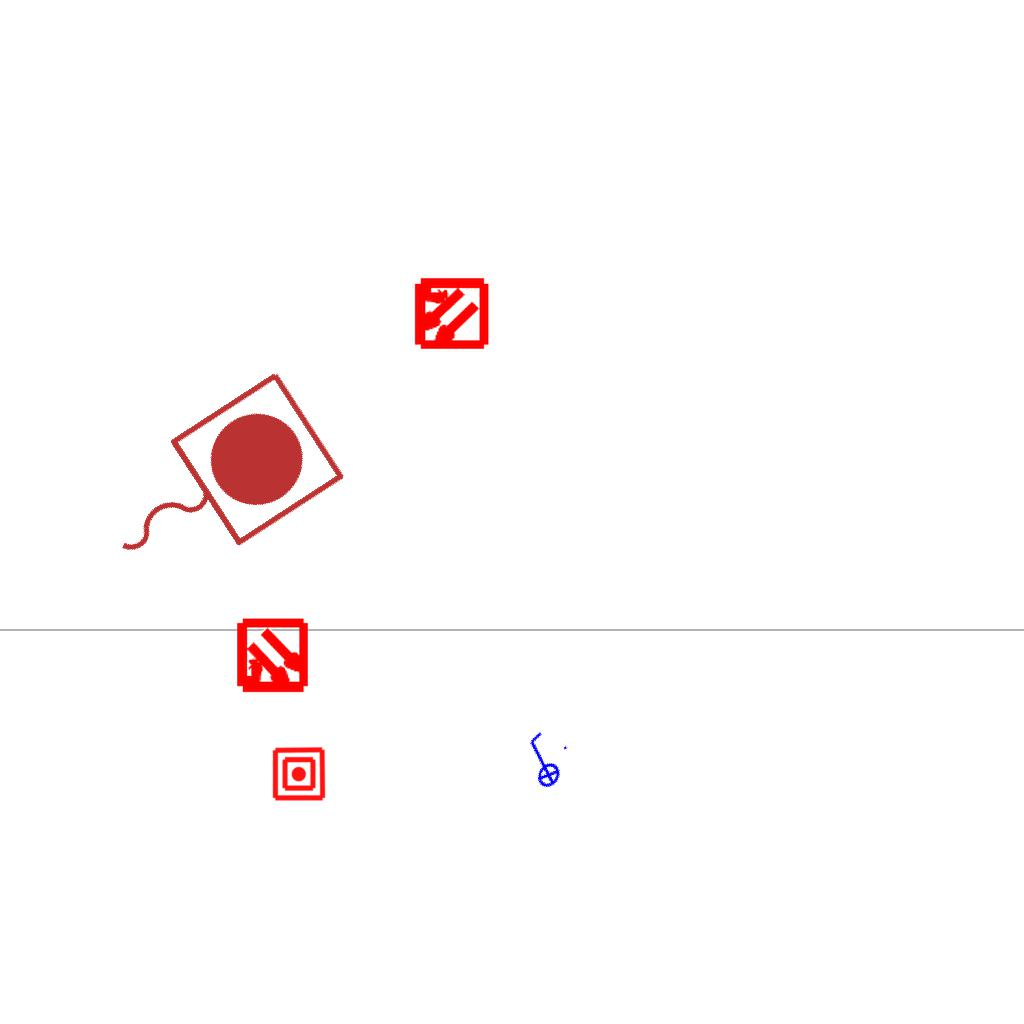Ausschalter_beleuchtet: (507, 724, 577, 798)
NAM-Nichtautomatischer_Melder: (271, 746, 327, 802)
OT_Multisensormelder_(Kombination_RMO_WMD): (216, 601, 329, 714), (393, 257, 506, 370)
Zugtaster: (72, 358, 356, 612)
